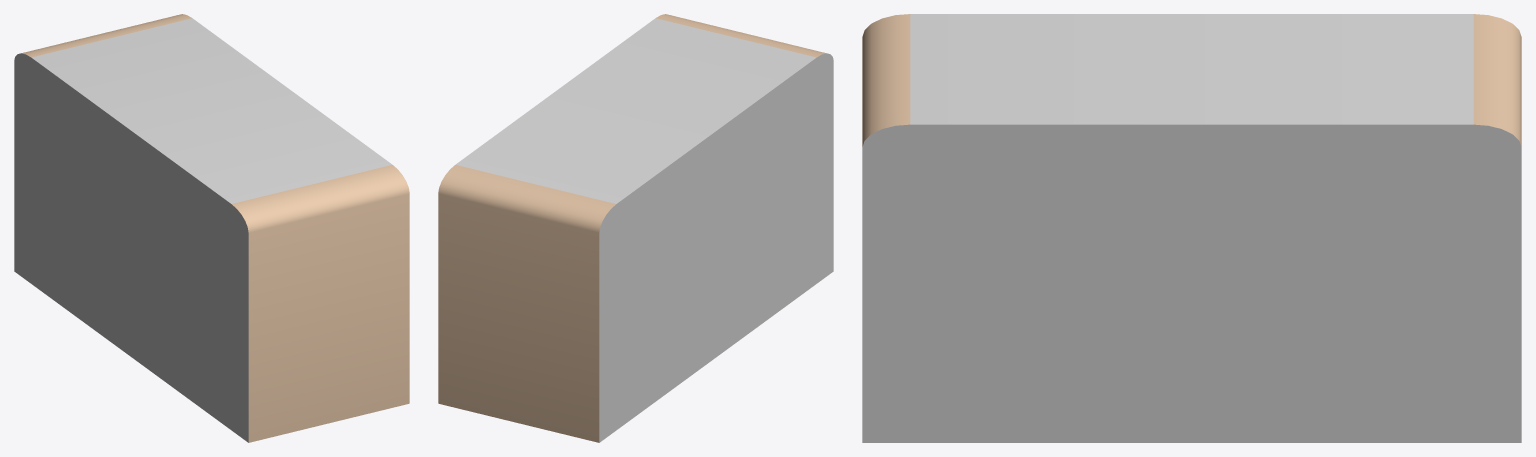
Rendered from finishPlatform.fbx.
3 views of the same model, side by side, from view 1: azimuth 30°, elevation 25°; view 2: azimuth 150°, elevation 25°; view 3: azimuth 270°, elevation 25° (orthographic). The views are drawn at different scales.
Parts seen in each view (by area): view 1: Cube; view 2: Cube; view 3: Cube.
Part boxes in pixels (x1,y1,x2,y2): Cube: (14,14,409,442); Cube: (438,14,833,442); Cube: (862,14,1521,442).
Bounding box in the file's own units: 150 × 202 × 379.
